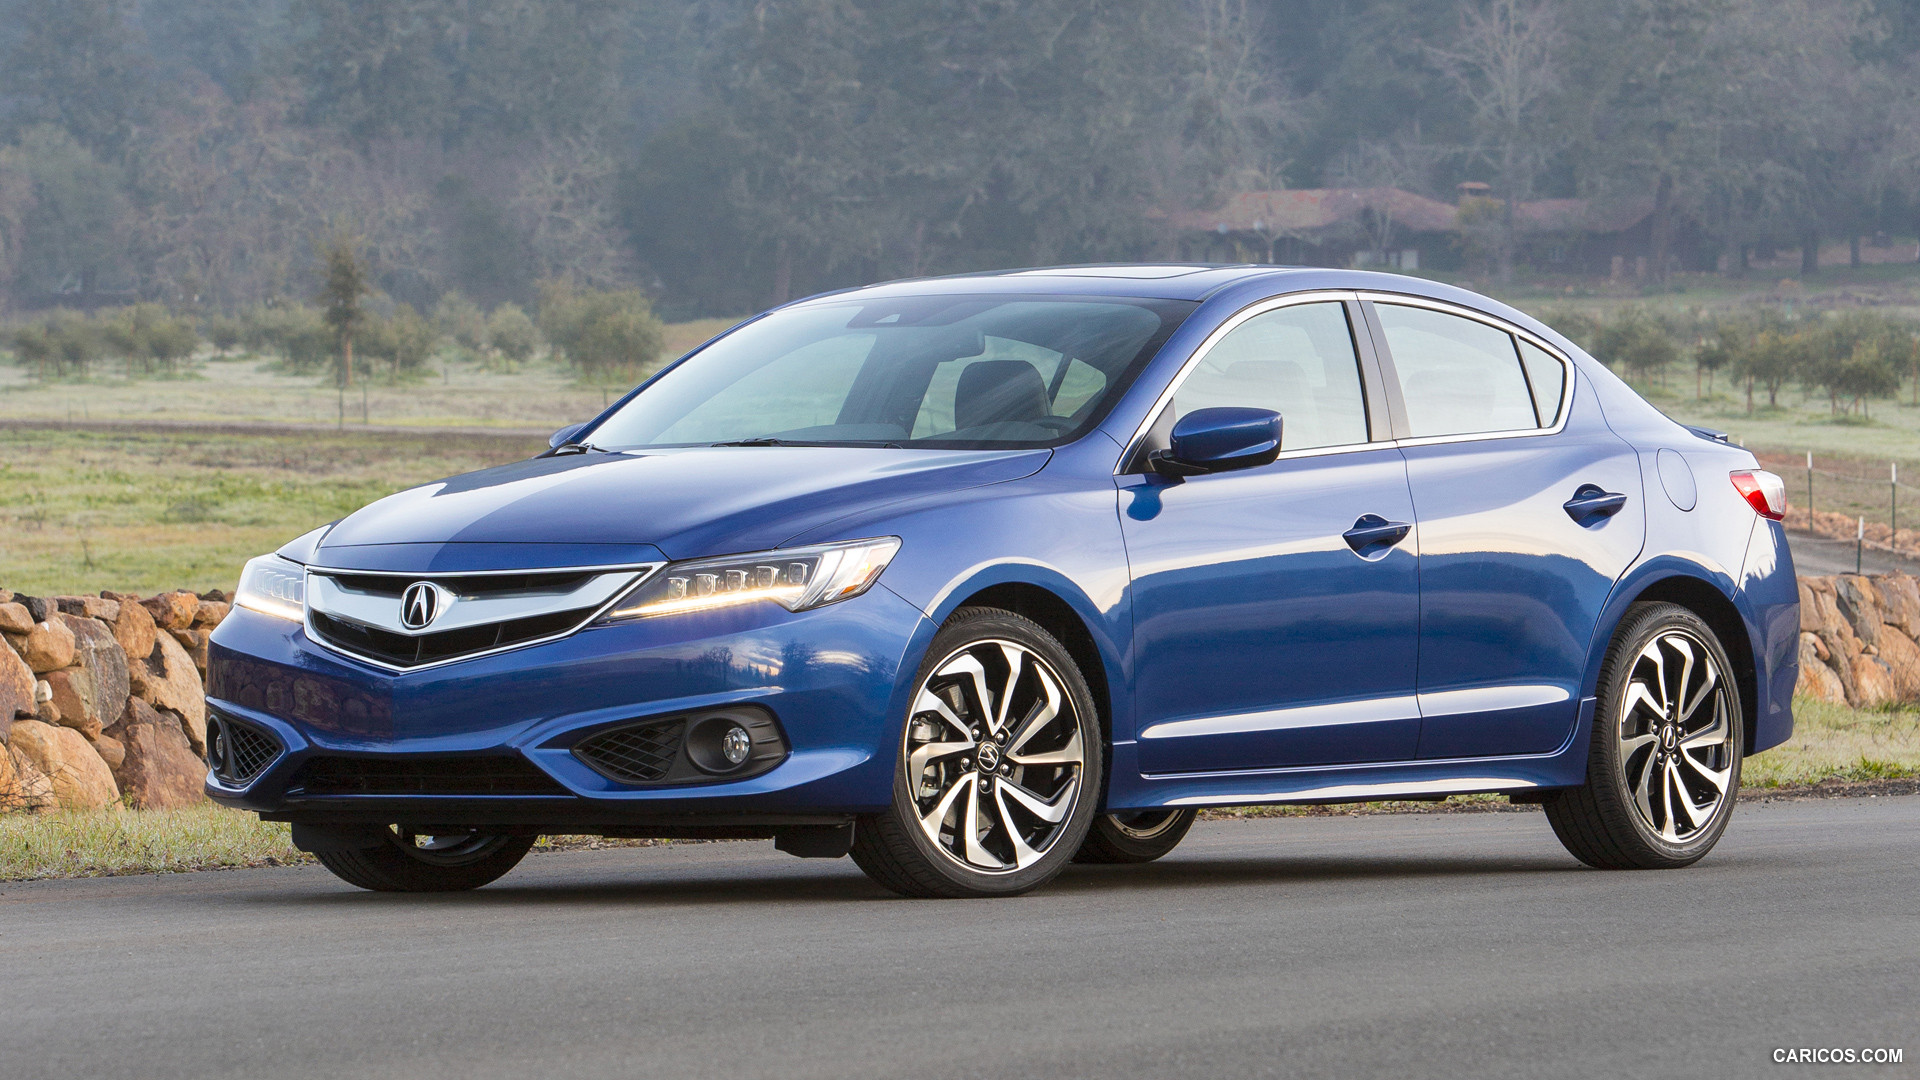Fog Lamp & Scope: (571, 705, 796, 786)
Front: (200, 454, 1025, 811)
Front Bumper: (200, 665, 902, 804)
Grill: (298, 560, 624, 678)
Headlight: (585, 534, 902, 636)
